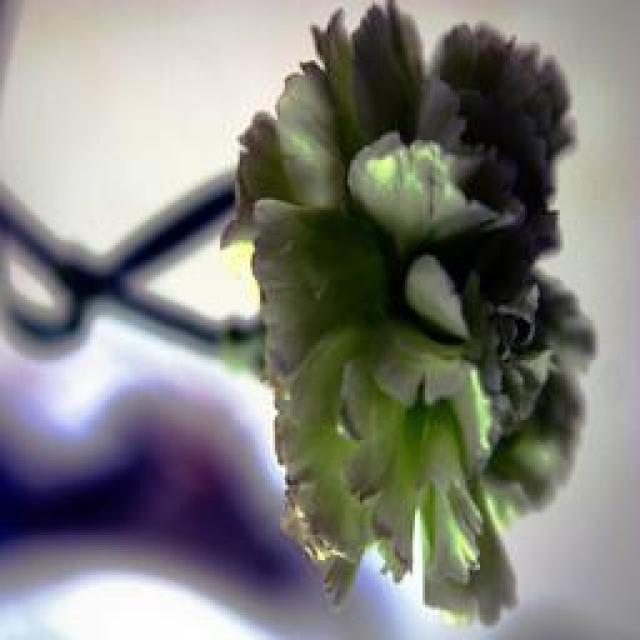carnation: (232, 0, 622, 620)
